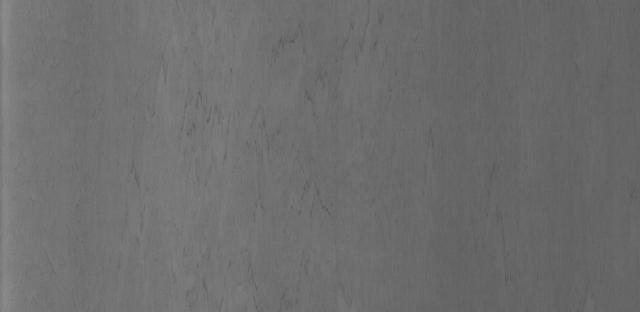silk_spot: (182, 3, 398, 204)
